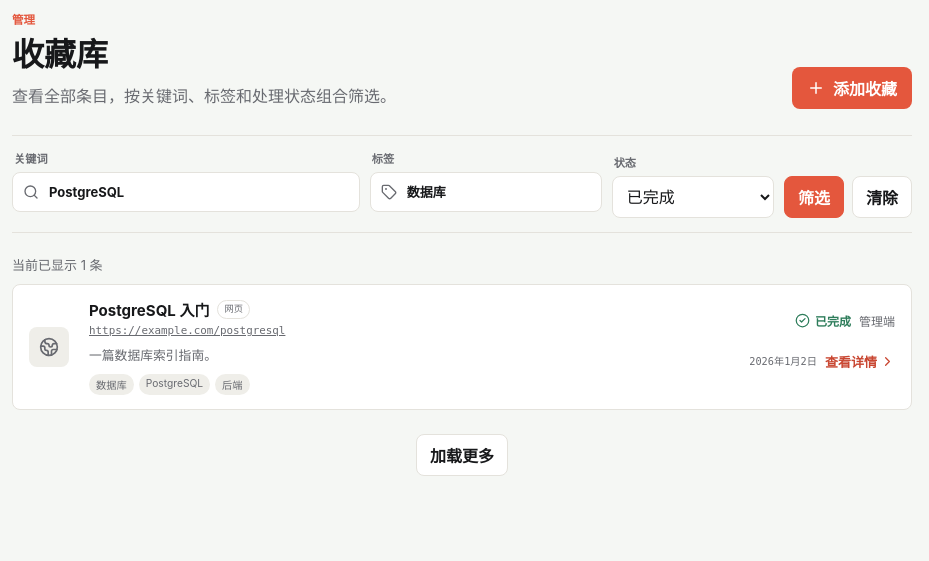
Test: LibraryView › keeps cursor pagination and appends the next page
Expected: the heading "PostgreSQL 入门" is shown, [89,299,210,320]
Click the button "加载更多". click: point(462, 455)
box: [416,434,508,476]
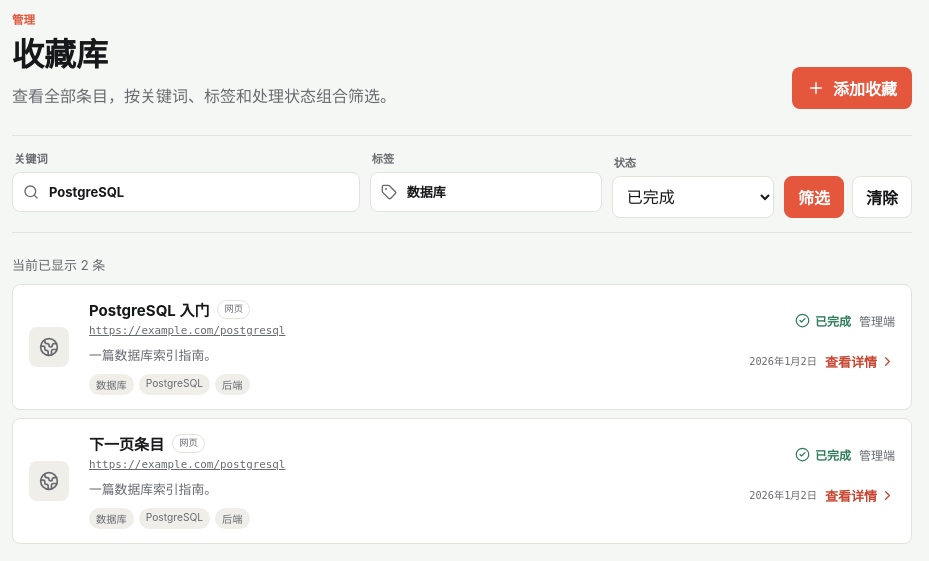
Expected: the heading "PostgreSQL 入门" is shown, [89,299,210,320]
Result: the heading "下一页条目" is shown at [89,433,164,454]
